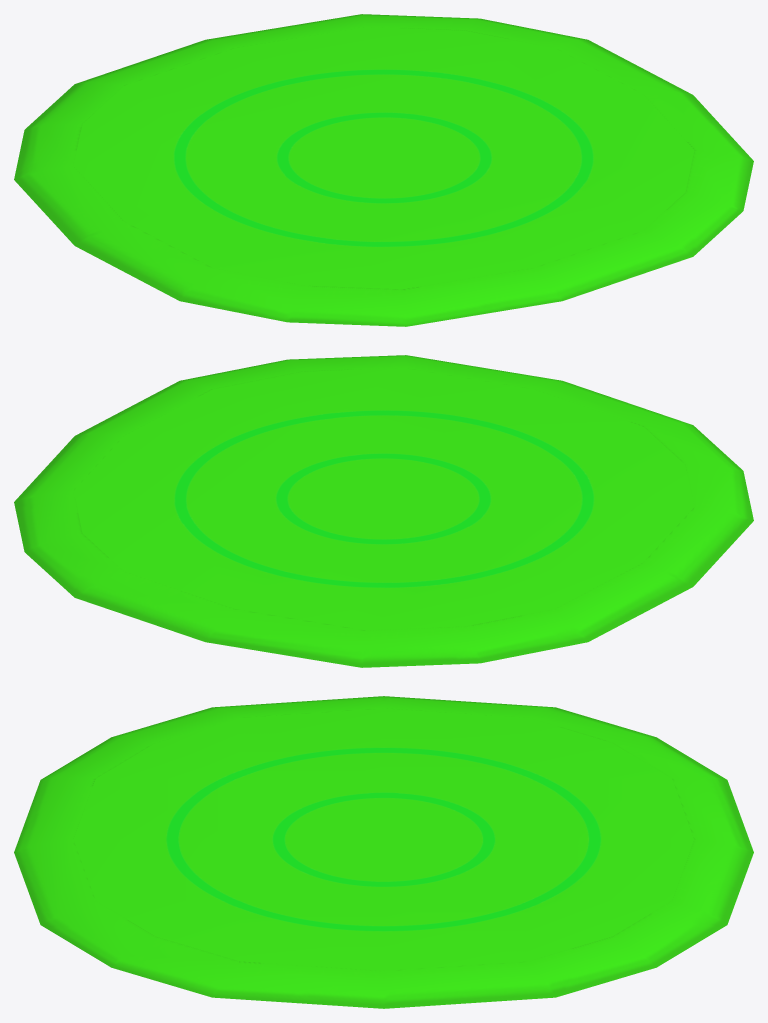
Rendered from konnseki_Kaihuku.fbx.
3 views of the same model, one above another, from view 1: azimuth 30°, elevation 25°; view 2: azimuth 150°, elevation 25°; view 3: azimuth 270°, elevation 25° (orthographic). The views are drawn at different scales.
Visible parts, largest first — view 1: kaihuku1; view 2: kaihuku1; view 3: kaihuku1.
Part boxes in pixels (left/top/right/bottom): kaihuku1: left=14, top=14, right=753, bottom=326; kaihuku1: left=14, top=355, right=753, bottom=667; kaihuku1: left=14, top=696, right=753, bottom=1008.
Size of the model in its own units: 66.7 by 1.28 by 66.7.
Materials: 1 (1 with a texture image).
